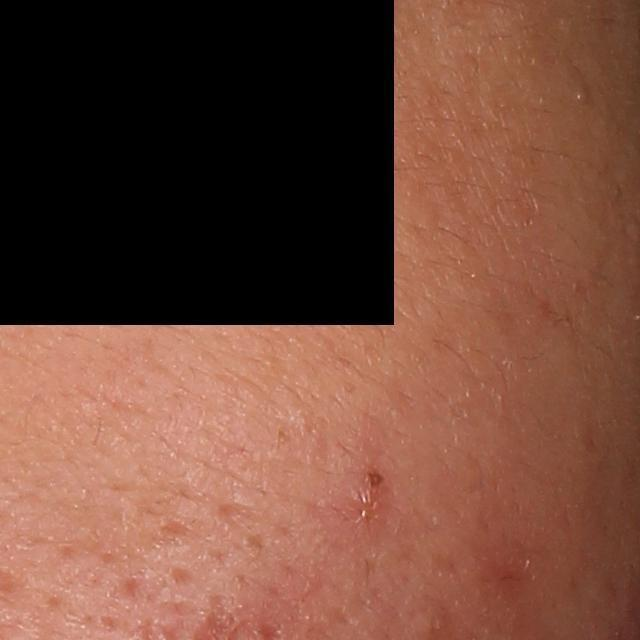atrophic_scar: (209, 496, 260, 534)
comedo: (571, 77, 592, 106)
